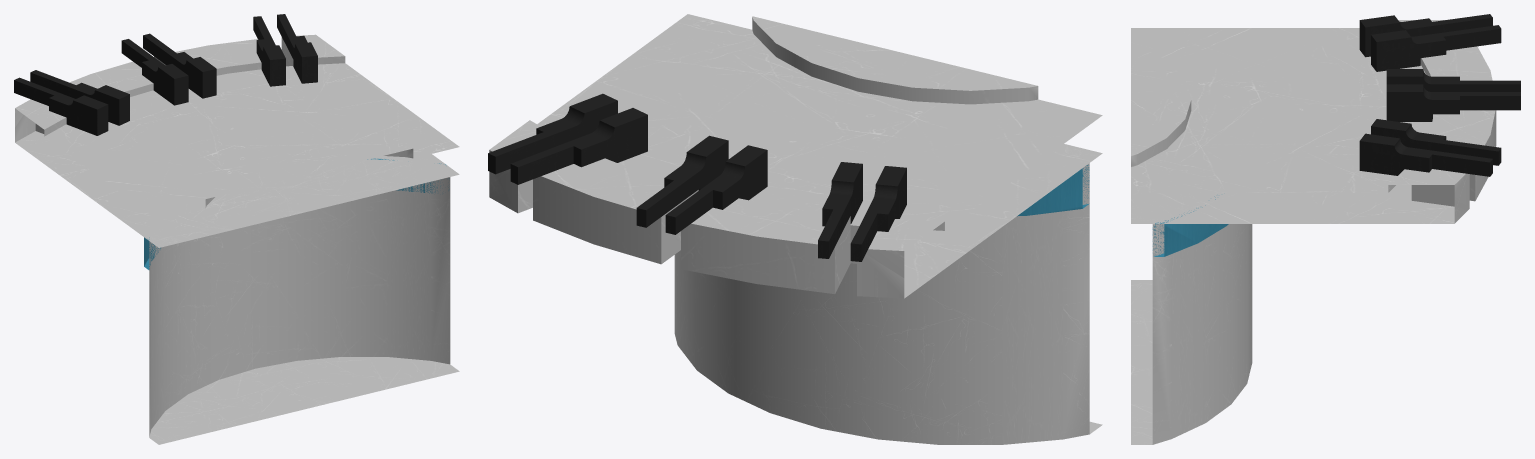
The model's file is Cube01_RotatingTableStation.glb.
The picture shows the model from 3 angles, left to right: view 1: azimuth 30°, elevation 25°; view 2: azimuth 150°, elevation 25°; view 3: azimuth 270°, elevation 25°; orthographic projection. The views are drawn at different scales.
Parts seen in each view (by area): view 1: color[1]; view 2: color[1]; view 3: color[1].
Boxes of the visible parts, x1,y1,x2,y2 form: color[1]: (14,14,459,444); color[1]: (488,14,1102,444); color[1]: (1131,14,1520,444).
Bounding box in the file's own units: 0.32 × 0.255 × 0.3195.
3 materials, 3 textured.
